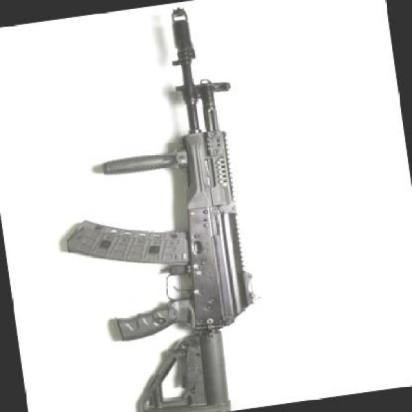Gun: (18, 4, 291, 412)
